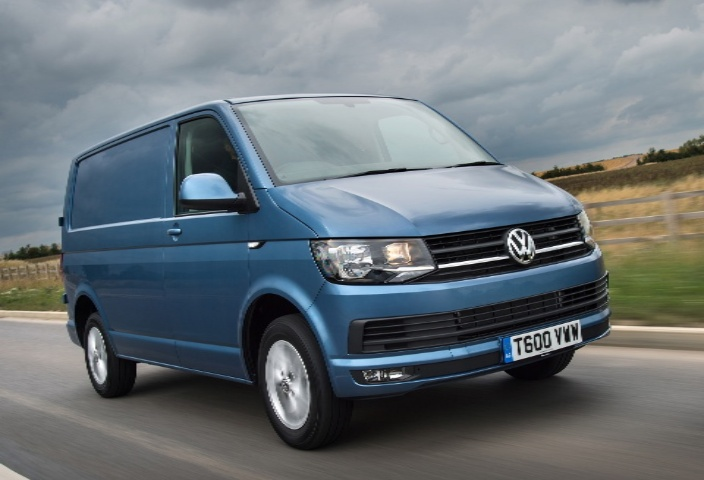van: (44, 105, 639, 420)
